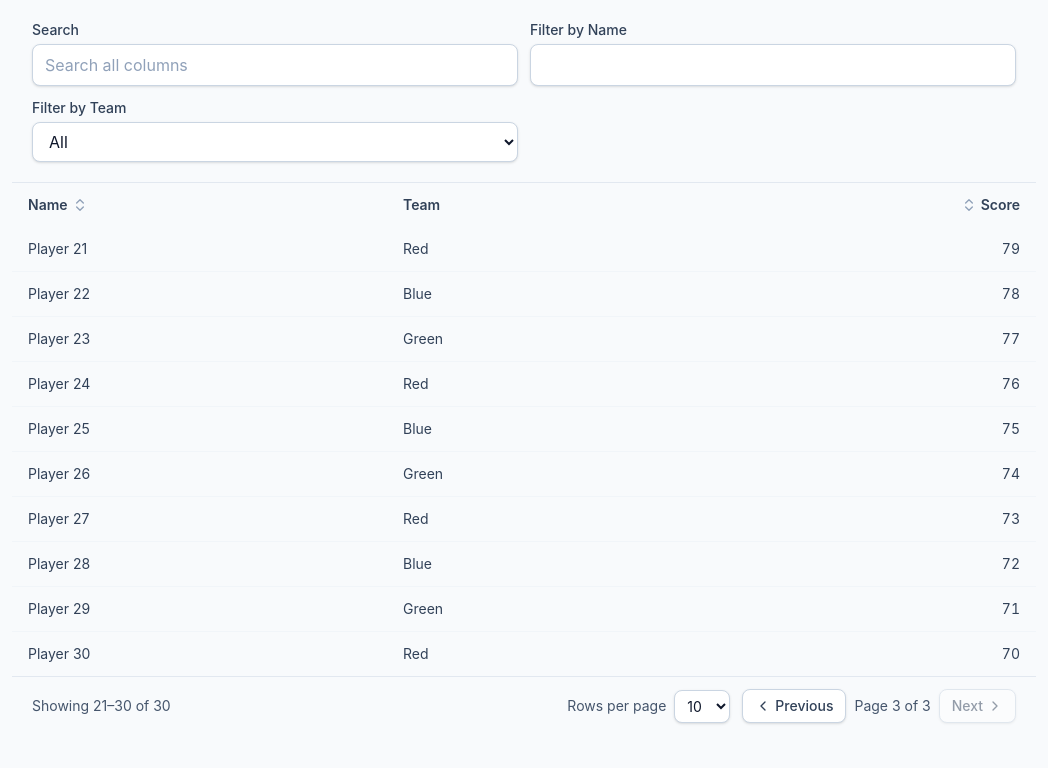
Test: DataTable › returns to page 1 when a filter changes
The width and height of the screenshot is (1048, 768).
Check: the text "Page 3 of 3" is shown, box [854, 696, 931, 716]
Type "Player 1" into the field labelled "Filter by Name" at (773, 65), box [530, 44, 1016, 86]
Wait 300 ms
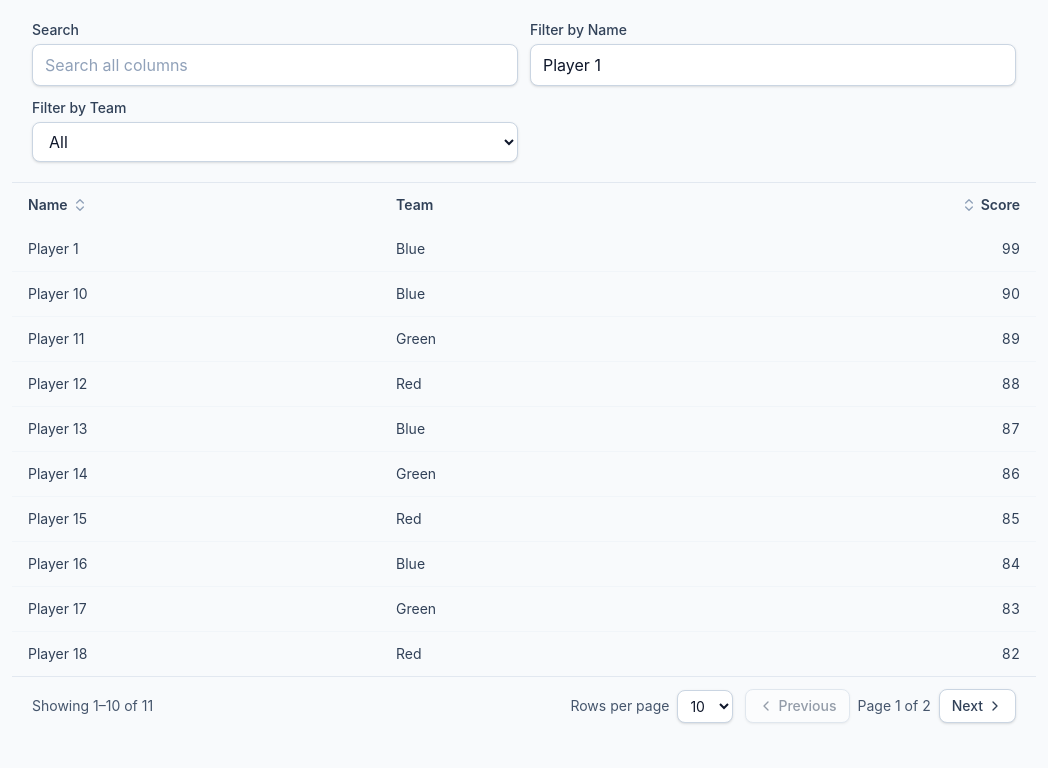
Check: the text "Page 1 of 2" is shown, box [858, 696, 931, 716]
Check: the cell "Player 1" is shown, box [12, 227, 380, 272]
Check: the message reads "Showing 1–10 of 11", box [32, 697, 153, 714]
